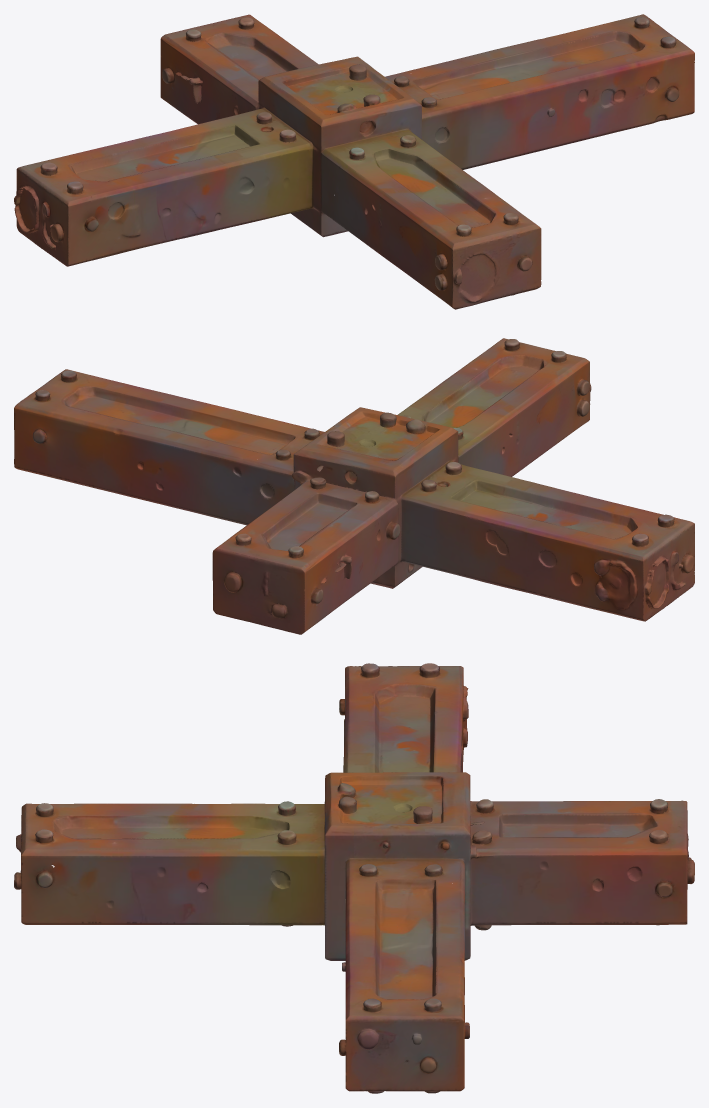
The model's file is Large Heavy Defensive Obstacle.glb.
3 views of the same model, one above another, from view 1: azimuth 30°, elevation 25°; view 2: azimuth 150°, elevation 25°; view 3: azimuth 270°, elevation 25° (orthographic). The views are drawn at different scales.
Parts seen in each view (by area): view 1: tripo_node_4f729d6d-49d6-4741-bbe7-b257e6275b80; view 2: tripo_node_4f729d6d-49d6-4741-bbe7-b257e6275b80; view 3: tripo_node_4f729d6d-49d6-4741-bbe7-b257e6275b80.
Part boxes in pixels (x1=…): tripo_node_4f729d6d-49d6-4741-bbe7-b257e6275b80: x1=14, y1=14, x2=694, y2=309; tripo_node_4f729d6d-49d6-4741-bbe7-b257e6275b80: x1=14, y1=338, x2=694, y2=634; tripo_node_4f729d6d-49d6-4741-bbe7-b257e6275b80: x1=14, y1=663, x2=694, y2=1093.
Bounding box in the file's own units: 4.2 × 0.7812 × 3.36.
1 material, 1 textured.
